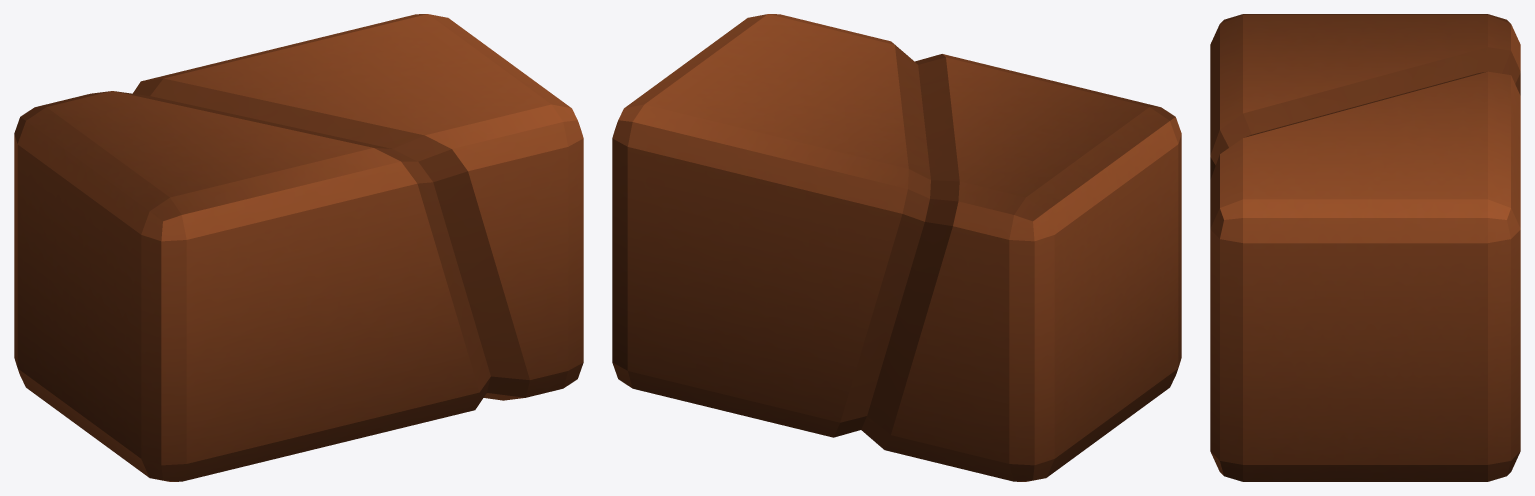
The model's file is block.fbx.
3 views of the same model, side by side, from view 1: azimuth 30°, elevation 25°; view 2: azimuth 150°, elevation 25°; view 3: azimuth 270°, elevation 25° (orthographic).
Parts seen in each view (by area): view 1: block; view 2: block; view 3: block.
Part boxes in pixels (left/top/right/bottom): block: left=14, top=14, right=583, bottom=481; block: left=612, top=14, right=1181, bottom=481; block: left=1210, top=14, right=1520, bottom=481.
Size of the model in its own units: 251 by 156 by 156.
